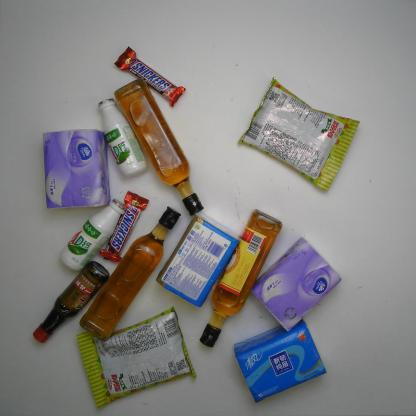Chocolate: (113, 43, 188, 109), (98, 189, 150, 263)
Milk: (59, 198, 127, 273), (97, 98, 149, 180)
Puffed Food: (237, 75, 361, 191), (75, 305, 198, 411)
Seasoner: (78, 206, 182, 341), (113, 77, 204, 217), (198, 208, 284, 350), (32, 260, 112, 344)
Tissue: (153, 210, 242, 310), (251, 236, 342, 332), (233, 317, 327, 404), (42, 128, 112, 210)
